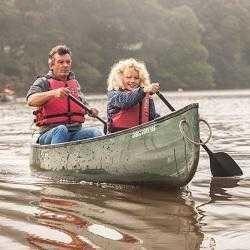kayak: (30, 100, 202, 189)
